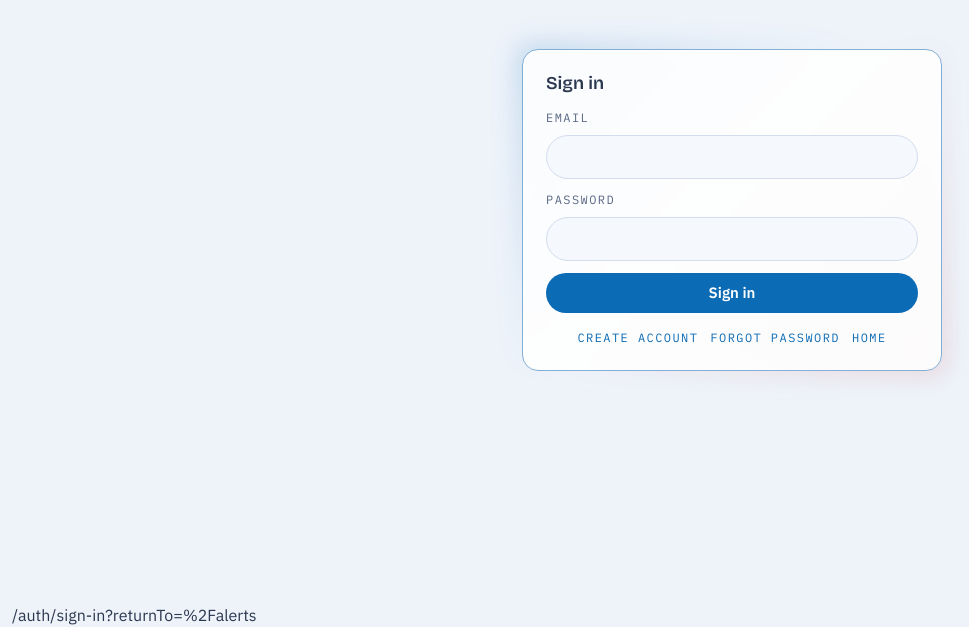
it: SignInPage › stays on the page with the blocked notice when the API blocks the first request
Type "person@example" into the field labelled "Email" at (732,157), box [546,135,918,179]
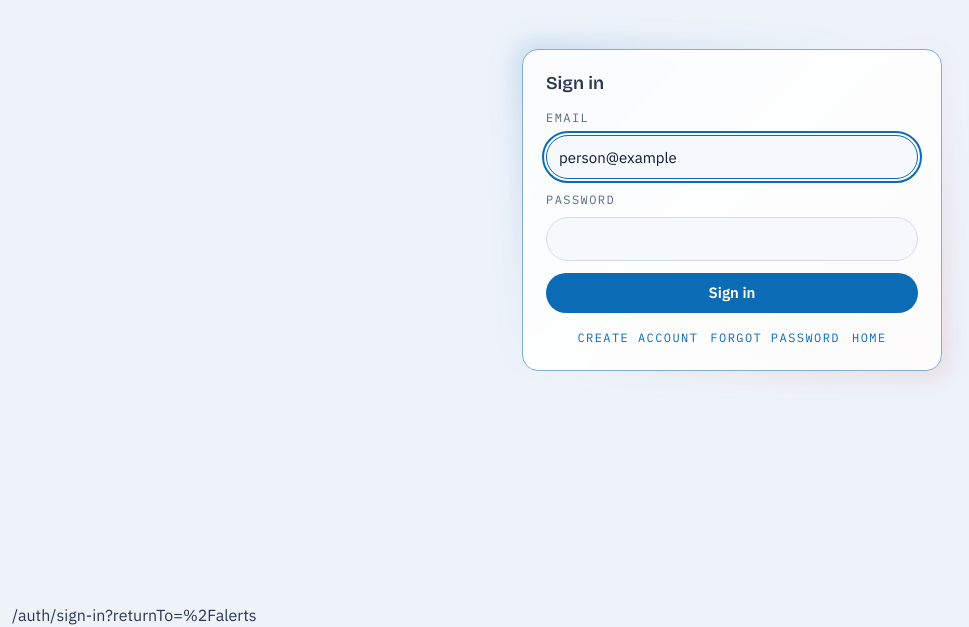
Type "hunter22hunter" into the password field labelled "Password" at (732,239), box [546,217,918,261]
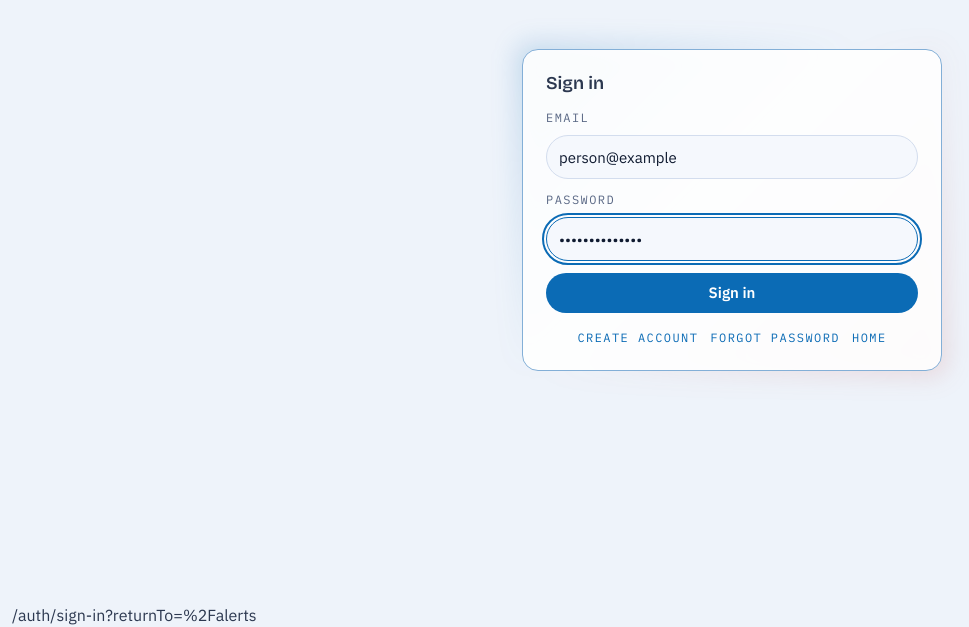
Click the button with test id "auth-submit" at (732,293), box [546,273,918,313]
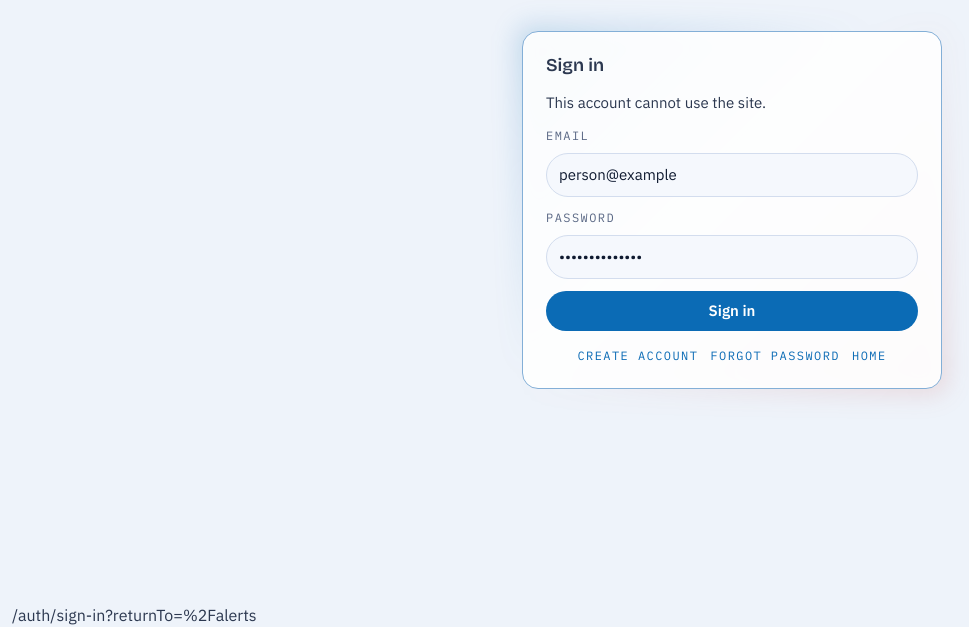
Expected: the text with test id "here" reads "/auth/sign-in?returnTo=%2Falerts", [12,605,257,625]
Expected: the message with test id "auth-blocked" reads "This account cannot use the site.", [546,93,766,112]
